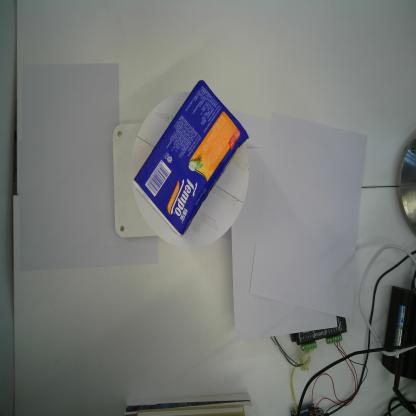Tissue: (130, 77, 248, 240)
